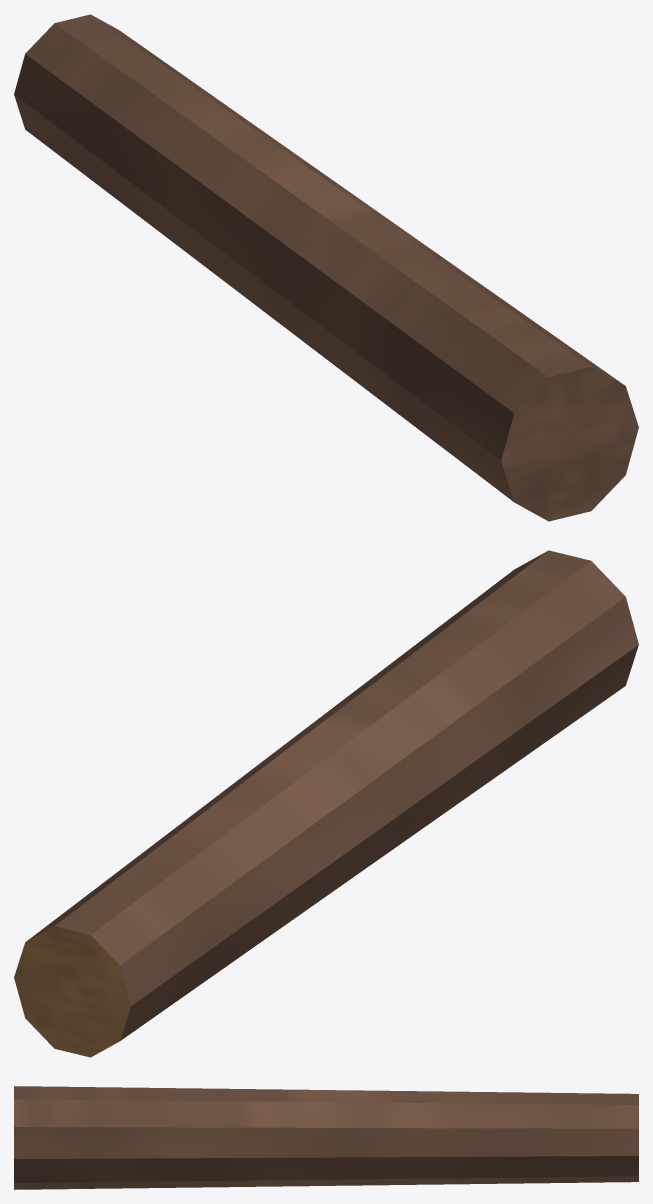
File: log_bridge.fbx
3 renders of one model, top to bottom at view 1: azimuth 30°, elevation 25°; view 2: azimuth 150°, elevation 25°; view 3: azimuth 270°, elevation 25°, orthographic. The views are drawn at different scales.
Parts seen in each view (by area): view 1: log_bridge; view 2: log_bridge; view 3: log_bridge.
Boxes of the visible parts, x1,y1,x2,y2 form: log_bridge: (14, 14, 638, 521); log_bridge: (14, 550, 638, 1057); log_bridge: (14, 1086, 638, 1189).
Bounding box in the file's own units: 80 × 80 × 500.
Materials: 1 (1 with a texture image).
